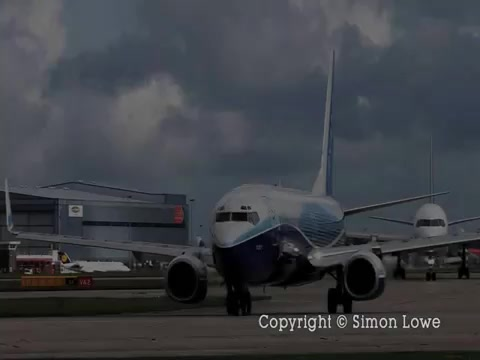aeroplane: (5, 49, 480, 315)
